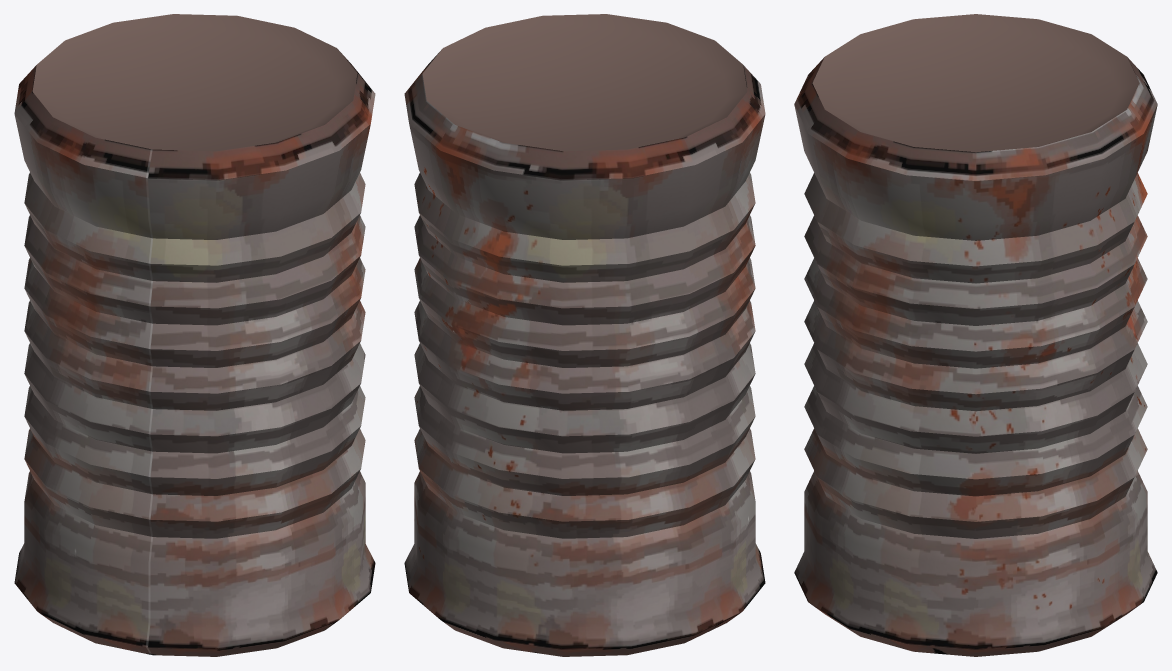
Rendered from lata_metal.obj.
3 renders of one model, left to right at view 1: azimuth 30°, elevation 25°; view 2: azimuth 150°, elevation 25°; view 3: azimuth 270°, elevation 25°, orthographic.
Visible parts, largest first — view 1: Lata; view 2: Lata; view 3: Lata.
Boxes of the visible parts, box(x1,y1,x2,y2) form: Lata: box(14, 14, 375, 656); Lata: box(404, 14, 765, 656); Lata: box(794, 14, 1157, 656).
Size of the model in its own units: 0.25 by 0.383 by 0.25.
Materials: 1 (1 with a texture image).
